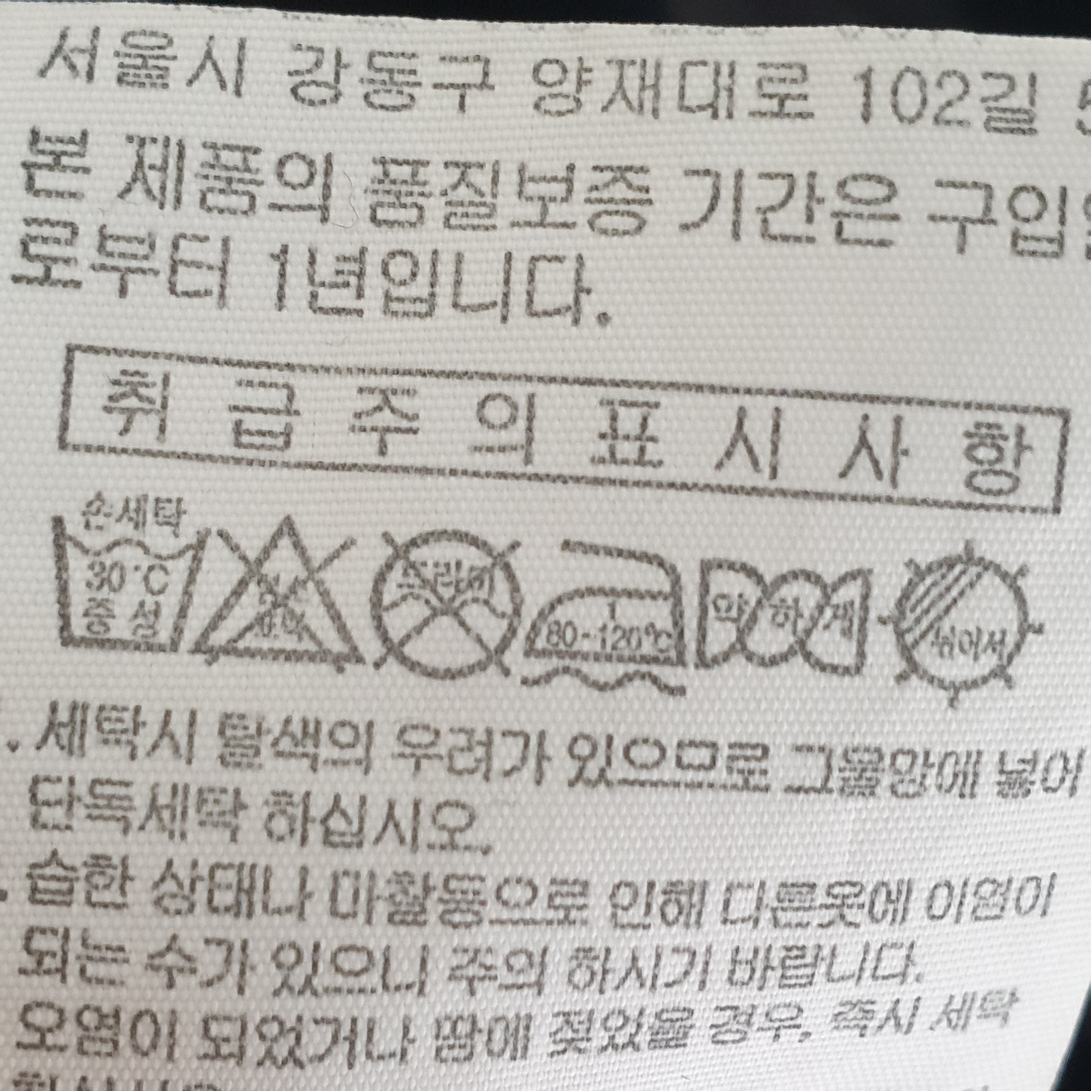KR_flat_dry_in_shade: (878, 539, 1028, 707)
KR_gentle_wring: (696, 539, 868, 687)
KR_hand_wash_30_neutral: (39, 490, 199, 656)
KR_iron_low_temp_with_cloth: (528, 527, 692, 701)
KR_no_chlorine_bleach: (202, 515, 368, 679)
KR_no_dry_clean: (368, 513, 523, 686)
